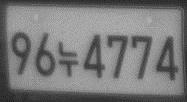4: (154, 34, 179, 81), (82, 34, 106, 79)
6: (34, 31, 56, 76)
7: (129, 32, 152, 83), (106, 34, 130, 79)
9: (9, 30, 31, 76)
누: (56, 39, 80, 79)
